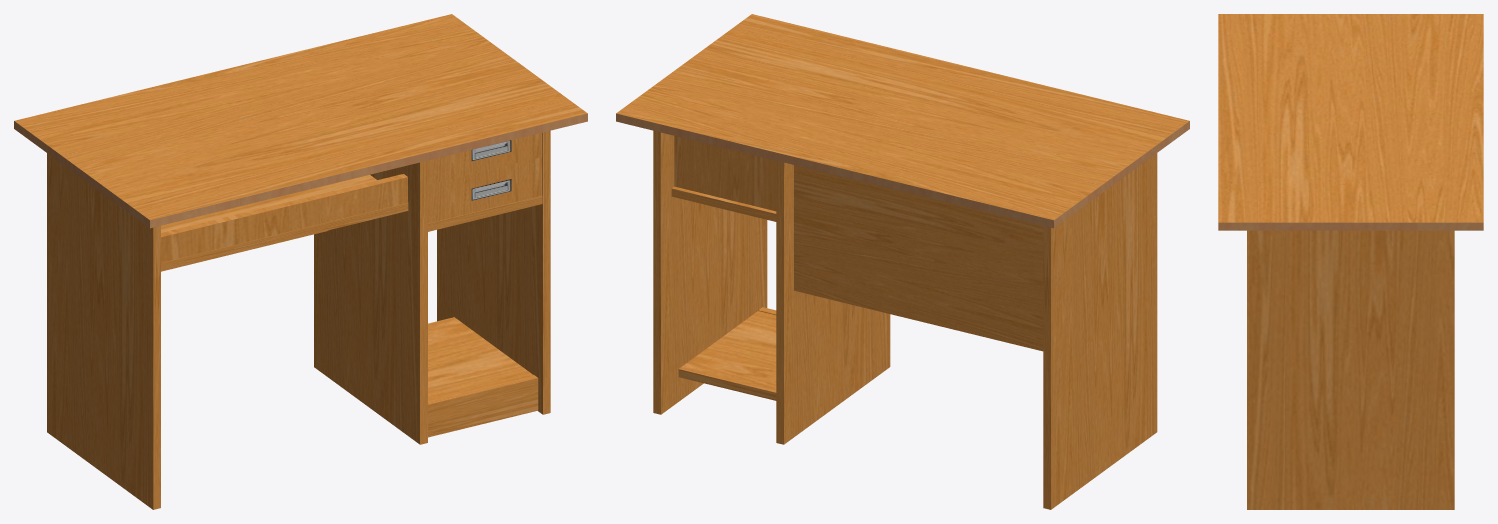
Rendered from computer table2.FBX.
The picture shows the model from 3 angles, left to right: view 1: azimuth 30°, elevation 25°; view 2: azimuth 150°, elevation 25°; view 3: azimuth 270°, elevation 25°; orthographic projection. The views are drawn at different scales.
Visible parts, largest first — view 1: computer table2; view 2: computer table2; view 3: computer table2.
Boxes of the visible parts, x1,y1,x2,y2 form: computer table2: (14, 14, 587, 509); computer table2: (616, 14, 1189, 509); computer table2: (1218, 14, 1483, 509).
Size of the model in its own units: 11.9 by 7.92 by 6.4.
